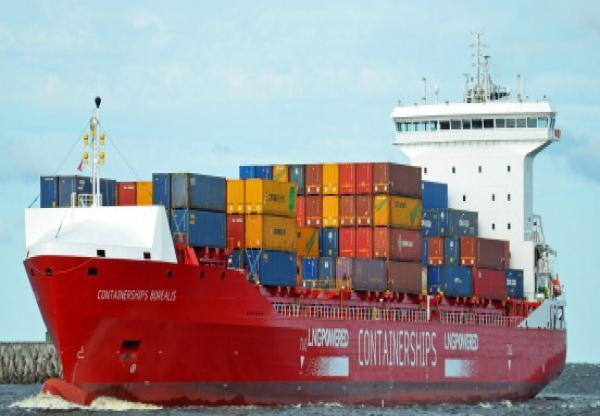Container Ship: (21, 30, 569, 408)
